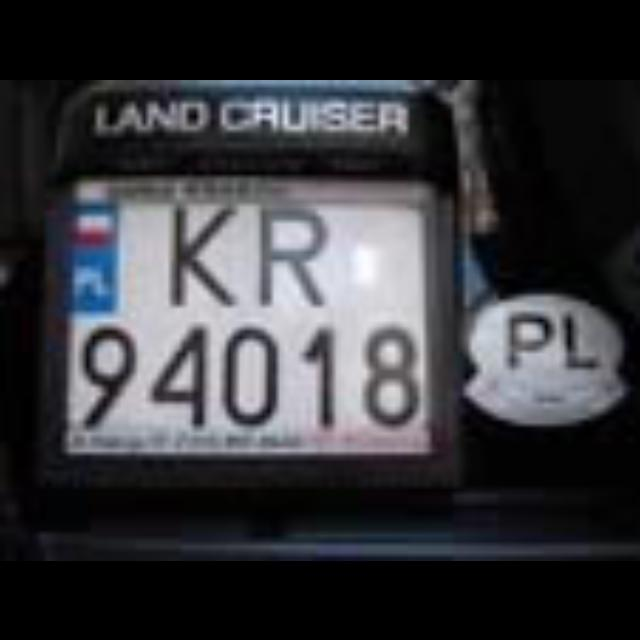pl_license_plate: (63, 193, 419, 419)
